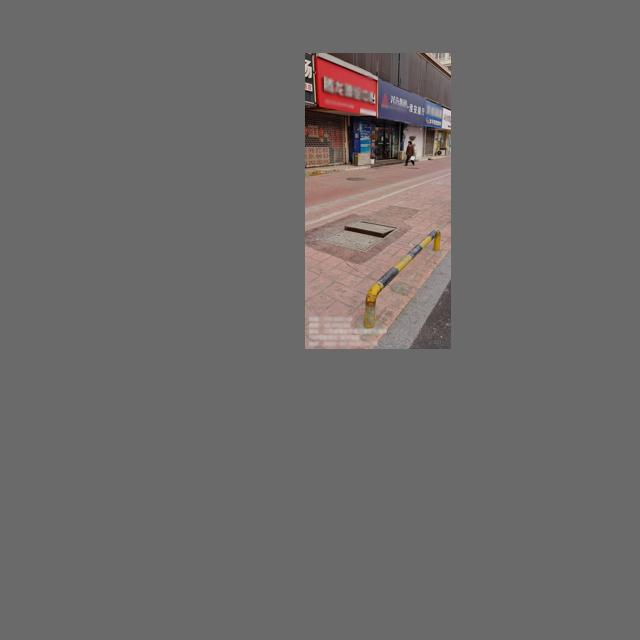uncovered: (322, 219, 398, 253)
